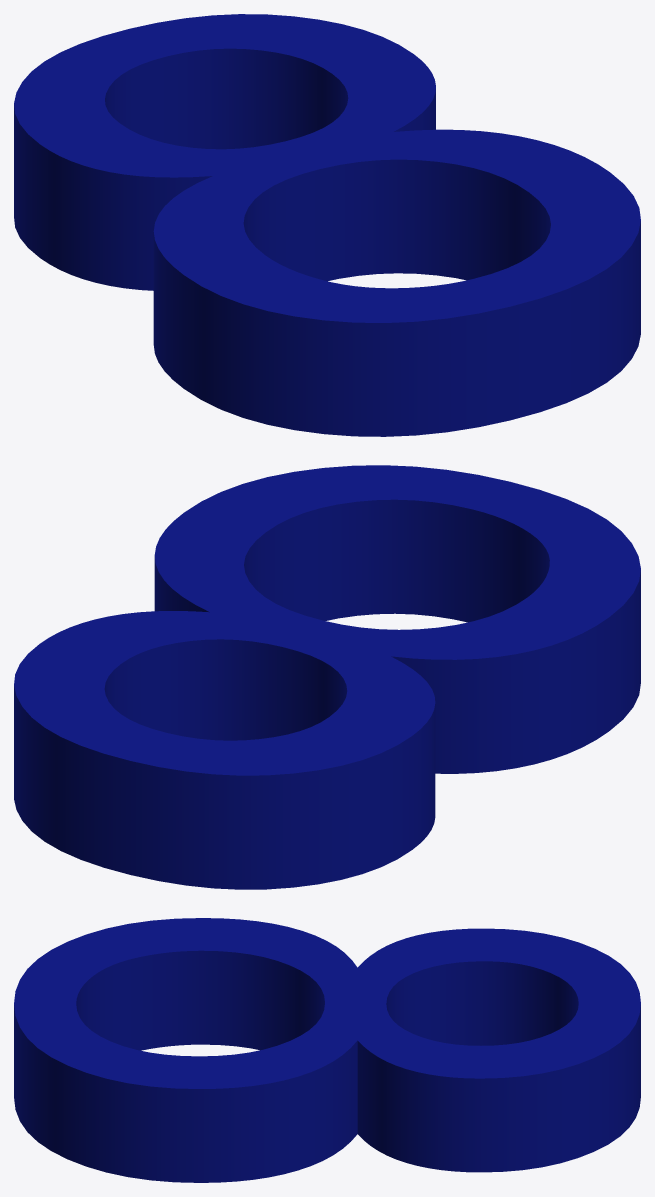
The picture shows the model from 3 angles, top to bottom: view 1: azimuth 30°, elevation 25°; view 2: azimuth 150°, elevation 25°; view 3: azimuth 270°, elevation 25°; orthographic projection. The views are drawn at different scales.
Parts seen in each view (by area): view 1: TextPlus063; view 2: TextPlus063; view 3: TextPlus063.
Boxes of the visible parts, left/top/right/bottom form: TextPlus063: left=14, top=14, right=640, bottom=436; TextPlus063: left=14, top=465, right=640, bottom=889; TextPlus063: left=14, top=918, right=640, bottom=1182.
Size of the model in its own units: 16.92 by 4.33 by 26.2.
